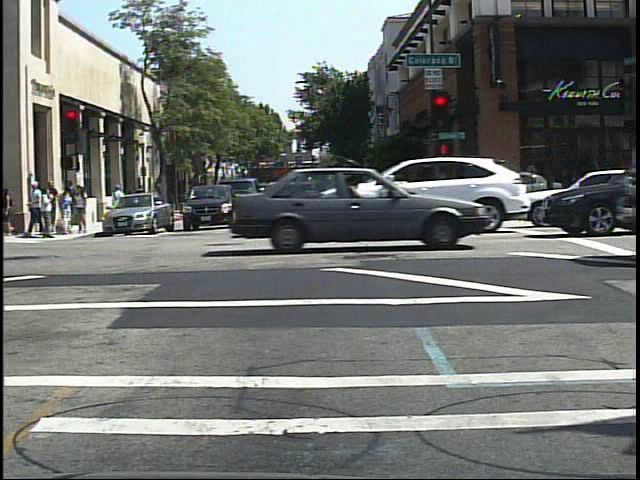person: (108, 180, 127, 225)
